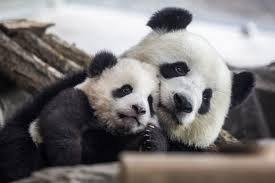bear: (0, 7, 254, 182), (29, 49, 168, 166)
